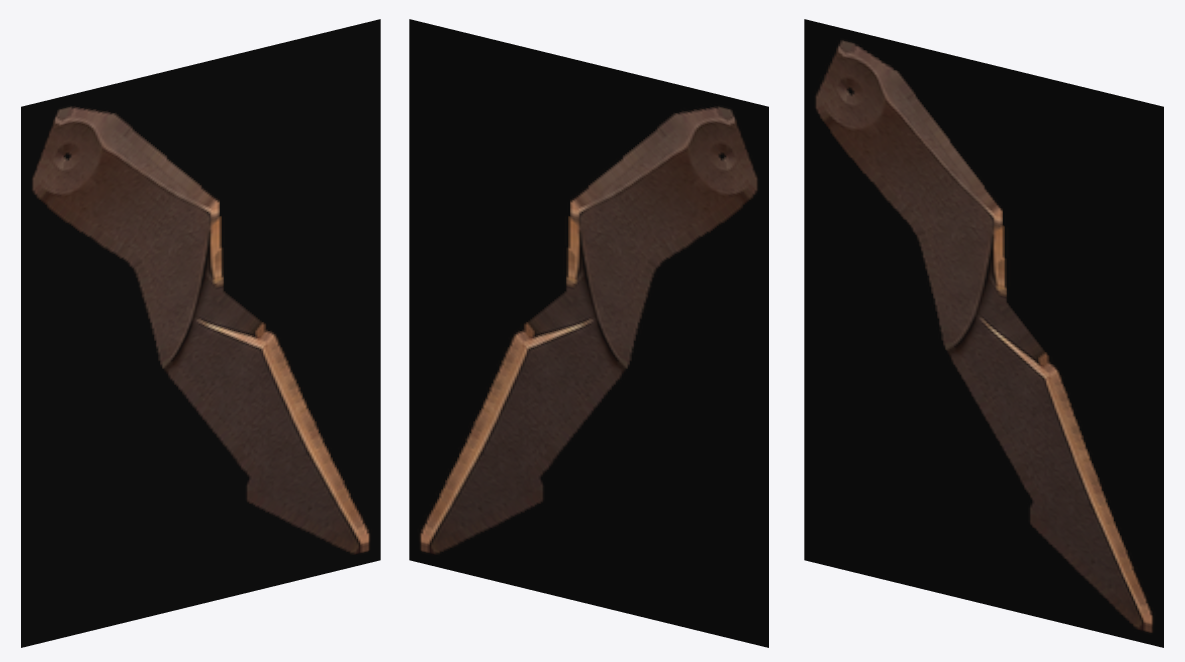
File: Variant03Lower.glb
The picture shows the model from 3 angles, left to right: view 1: azimuth 30°, elevation 25°; view 2: azimuth 150°, elevation 25°; view 3: azimuth 330°, elevation 25°; orthographic projection.
Visible parts, largest first — view 1: PaperVolume; view 2: PaperVolume; view 3: PaperVolume.
Boxes of the visible parts, bbox=[...] form: PaperVolume: bbox=[21, 19, 380, 647]; PaperVolume: bbox=[409, 19, 768, 647]; PaperVolume: bbox=[804, 19, 1163, 647].
Bounding box in the file's own units: 2.42 × 3.48 × 0.08.
Materials: 3 (2 with a texture image).
